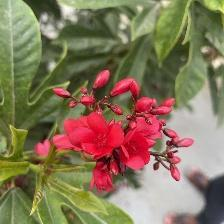jatropha: (70, 113, 125, 159)
